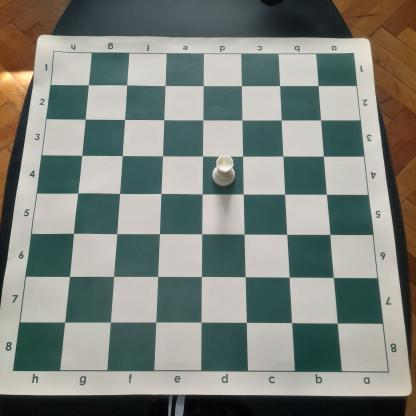white-rook: (210, 155, 240, 188)
